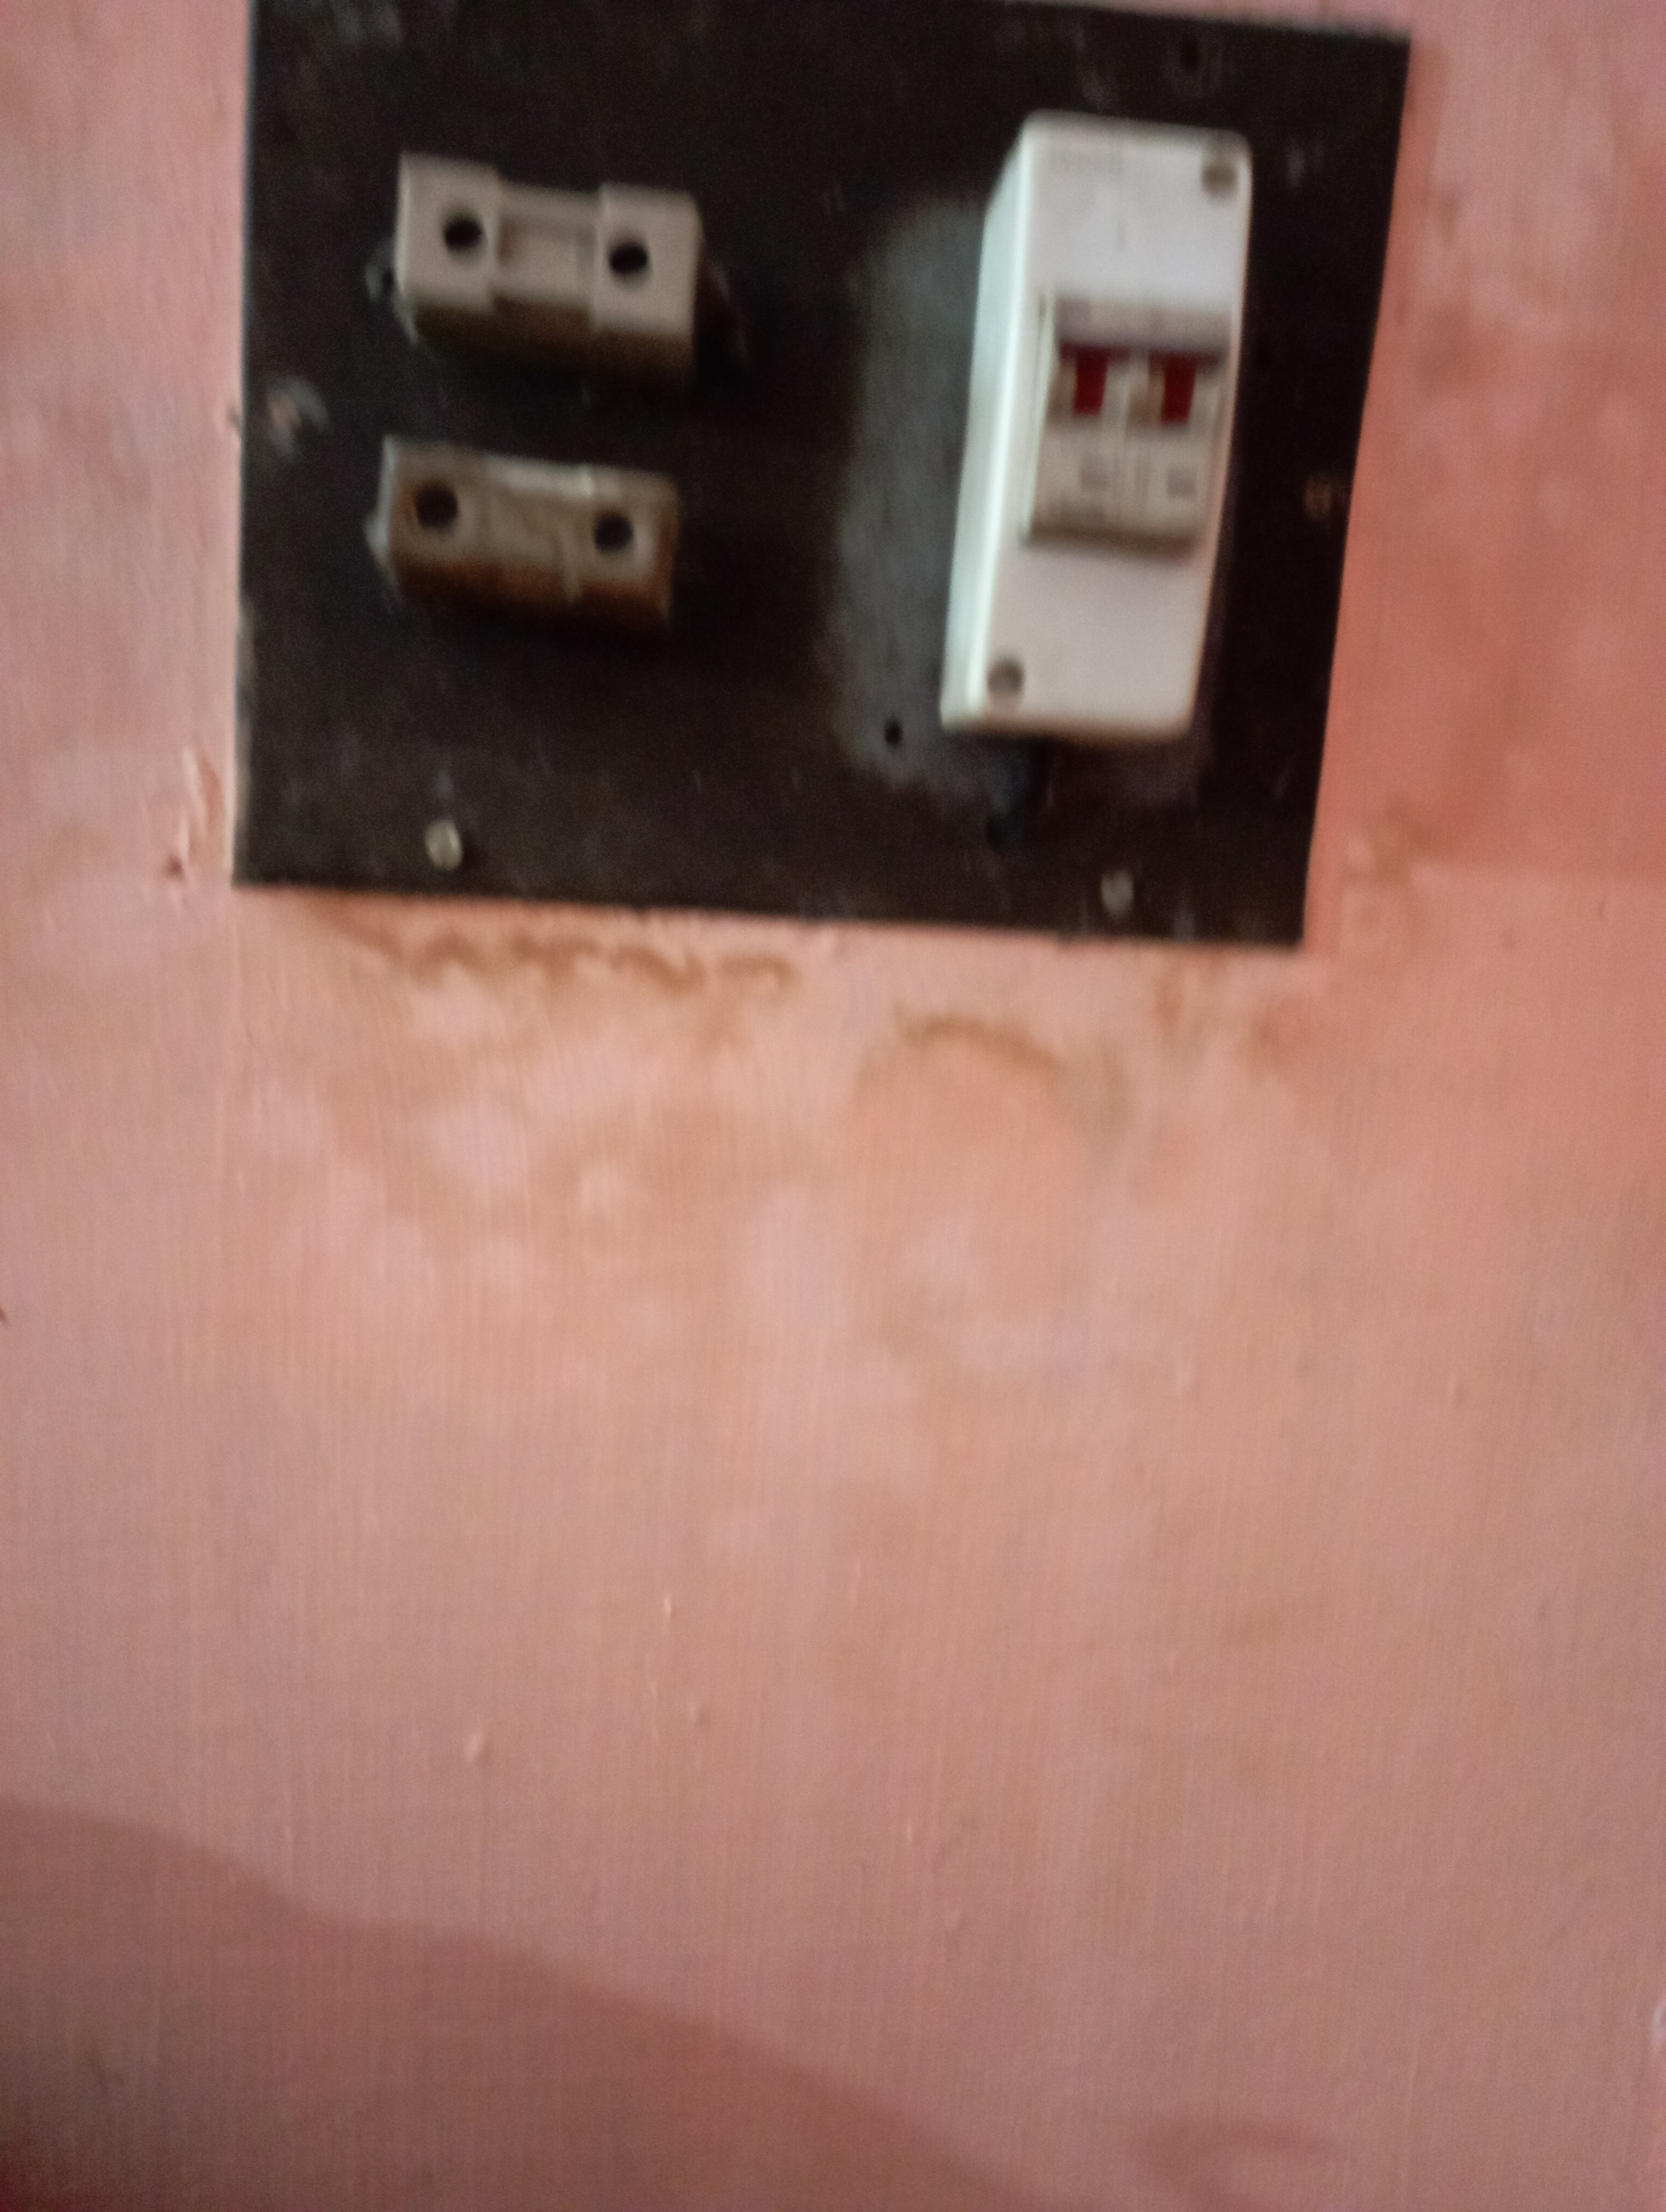ciruit_breaker: (957, 110, 1239, 766)
fuse: (366, 145, 714, 357), (361, 414, 688, 638)
